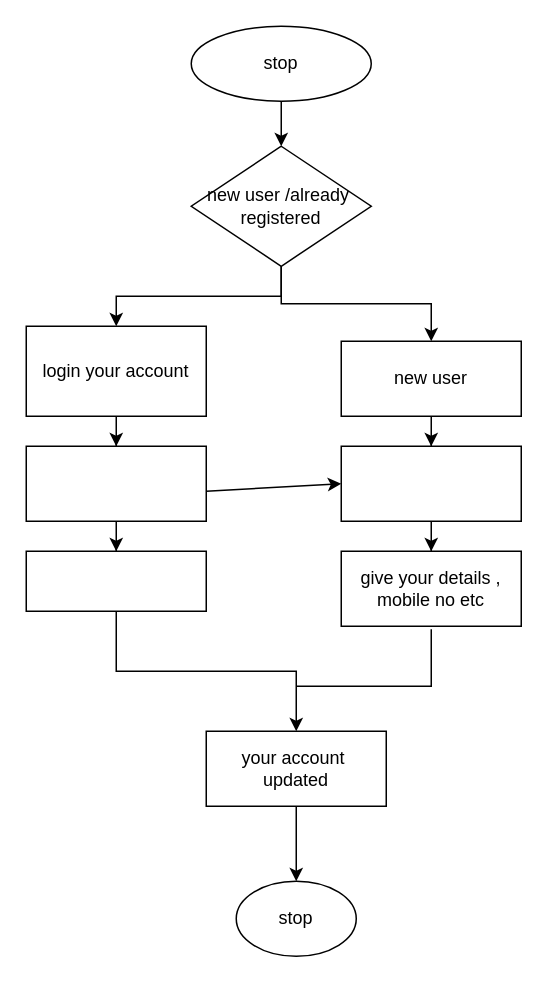
This 548x983 diagram has some shape labels left out. The centre of each missing label's shape, as x and y in pixels:
change number and forget the password: the point at 115,483
login mobile number or email id: the point at 430,483
select one option: the point at 115,580
